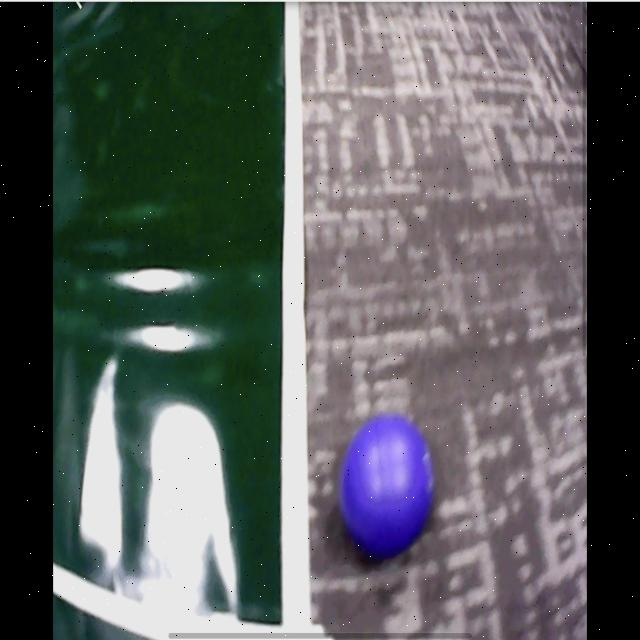ball: (344, 414, 436, 558)
